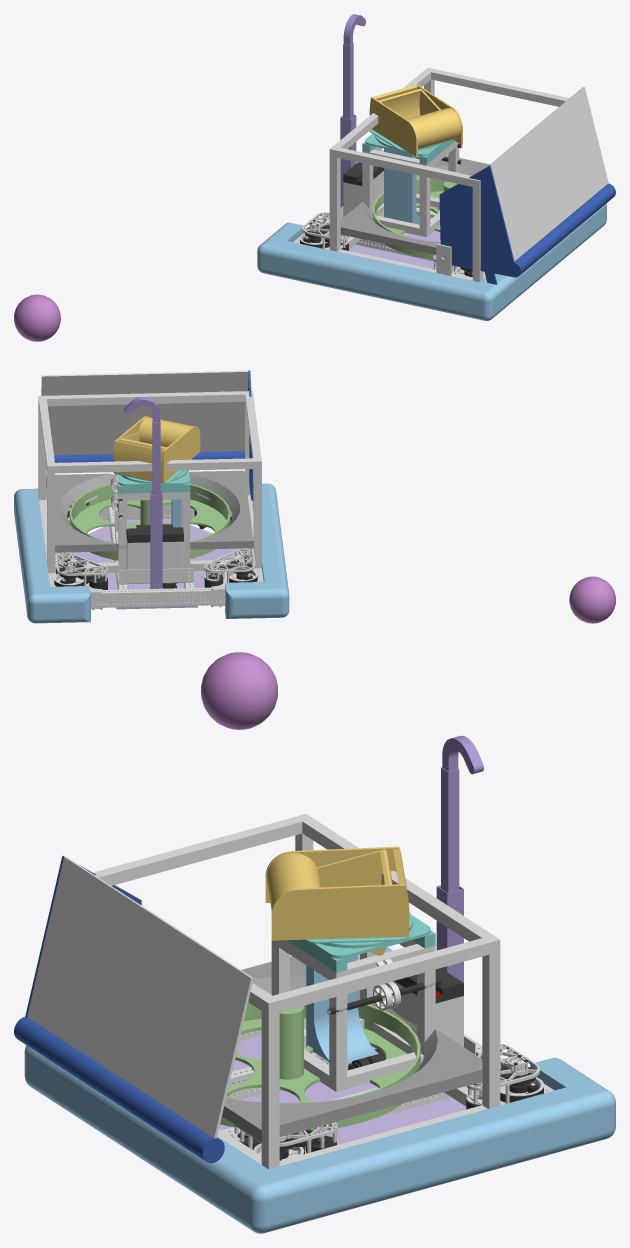
The picture shows the model from 3 angles, top to bottom: view 1: azimuth 30°, elevation 25°; view 2: azimuth 150°, elevation 25°; view 3: azimuth 270°, elevation 25°; orthographic projection. The views are drawn at different scales.
Visible parts, largest first — view 1: Part 1 (×2), Bumper, id70, Fixed Hood Shooter, Part 2 (×2), id19, FRC Game Piece, Stage 1, Robot Battery, Hood, Spindexer, Baseplate (+3 smaller); view 2: Part 1, Bumper, id70, Part 2, Spindexer, Fixed Hood Shooter, 2" x 1" x 0.125" Aluminum Box Tube (19" L, Full Pattern, 0.5 (×2), Robot Battery, Baseplate, FRC Game Piece, id19, MK4i Master Part V2_Default Falcon 500 Config (×2) (+4 smaller); view 3: Part 1 (×2), Bumper, id70, Fixed Hood Shooter, Part 2, id19, Spindexer, FRC Game Piece, Baseplate, Stage 1, Robot Battery, Hood (+4 smaller).
Part boxes in pixels (<box>): Part 1 (×2): <box>384,87,615,284</box>; Bumper: <box>257,150,606,320</box>; id70: <box>329,67,569,281</box>; Fixed Hood Shooter: <box>369,84,462,157</box>; Part 2 (×2): <box>340,155,489,275</box>; id19: <box>362,141,459,237</box>; FRC Game Piece: <box>14,294,60,341</box>; Stage 1: <box>343,14,365,119</box>; Robot Battery: <box>343,162,383,217</box>; Hood: <box>378,88,460,146</box>; Spindexer: <box>372,178,457,258</box>; Baseplate: <box>349,209,458,269</box>; Part 1: <box>41,370,253,500</box>; Bumper: <box>14,483,289,623</box>; id70: <box>38,391,261,573</box>; Part 2: <box>46,470,253,552</box>; Spindexer: <box>69,484,230,560</box>; Fixed Hood Shooter: <box>113,416,200,482</box>; 2" x 1" x 0.125" Aluminum Box Tube (19" L, Full Pattern, 0.5 (×2): <box>91,504,224,607</box>; Robot Battery: <box>126,524,183,569</box>; Baseplate: <box>55,519,249,609</box>; FRC Game Piece: <box>569,576,615,623</box>; id19: <box>115,474,190,565</box>; MK4i Master Part V2_Default Falcon 500 Config (×2): <box>55,548,255,585</box>; Part 1 (×2): <box>14,855,378,1163</box>; Bumper: <box>24,947,615,1233</box>; id70: <box>93,814,500,1169</box>; Fixed Hood Shooter: <box>265,846,409,940</box>; Part 2: <box>222,956,482,1141</box>; id19: <box>271,940,435,1091</box>; Spindexer: <box>220,993,420,1130</box>; FRC Game Piece: <box>201,652,277,729</box>; Baseplate: <box>219,1035,466,1151</box>; Stage 1: <box>441,735,483,892</box>; Robot Battery: <box>391,968,463,1046</box>; Hood: <box>266,849,392,955</box>.
Size of the model in its own units: 2.18 by 0.7581 by 1.16.
